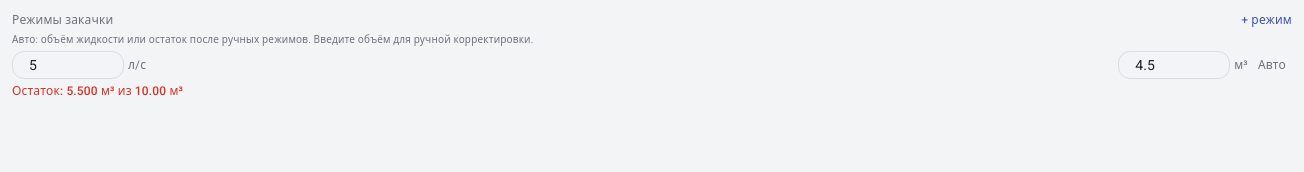
Test: volume input › fills automatically, follows changed intervals, preserves manual override and returns to auto
Earlier steps of the test are not shown.
Later steps or results of the test are not shown.
Check: the 2nd number field holds "4.5", box [1118,51,1230,79]
Check: the text "Остаток: 5.500 м³ из 10.00 м³" is shown, box [12,84,183,98]
Click the button "Авто" at [1272, 65], box [1252,53,1292,77]
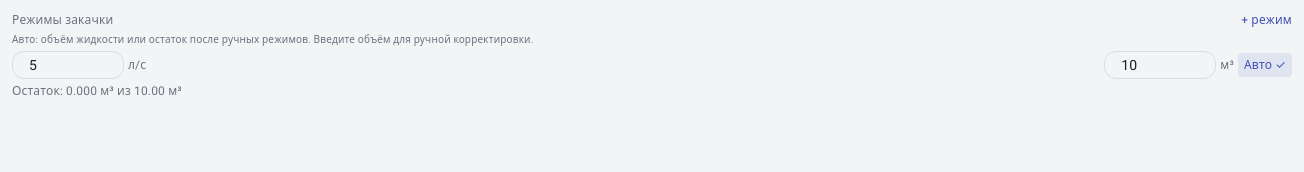
Check: the 2nd number field holds "10", box [1104,51,1216,79]
Click the button "+ режим" at [1267, 20], box [1241,12,1292,28]
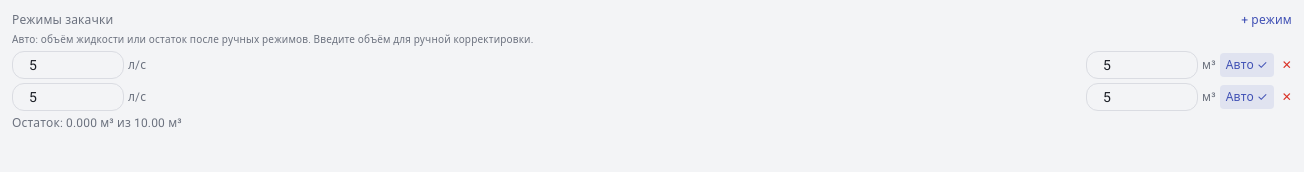
Check: the 2nd number field holds "5", box [1086,51,1198,79]
Check: the 4th number field holds "5", box [1086,83,1198,111]
